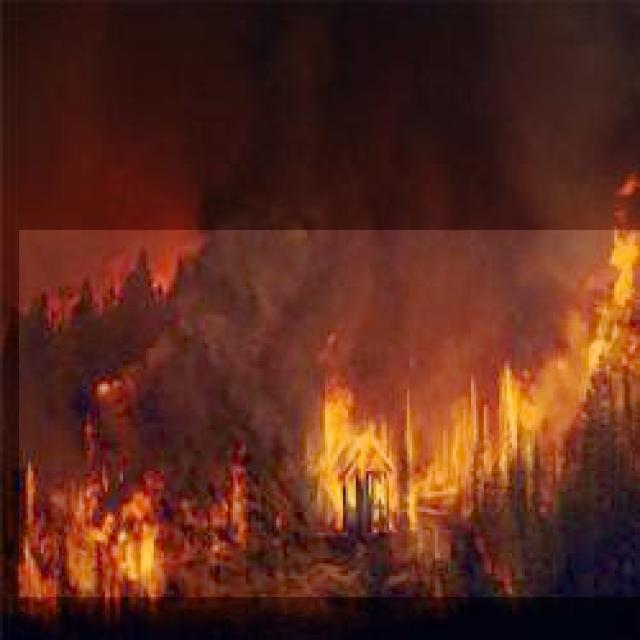Fire: (19, 230, 640, 597)
